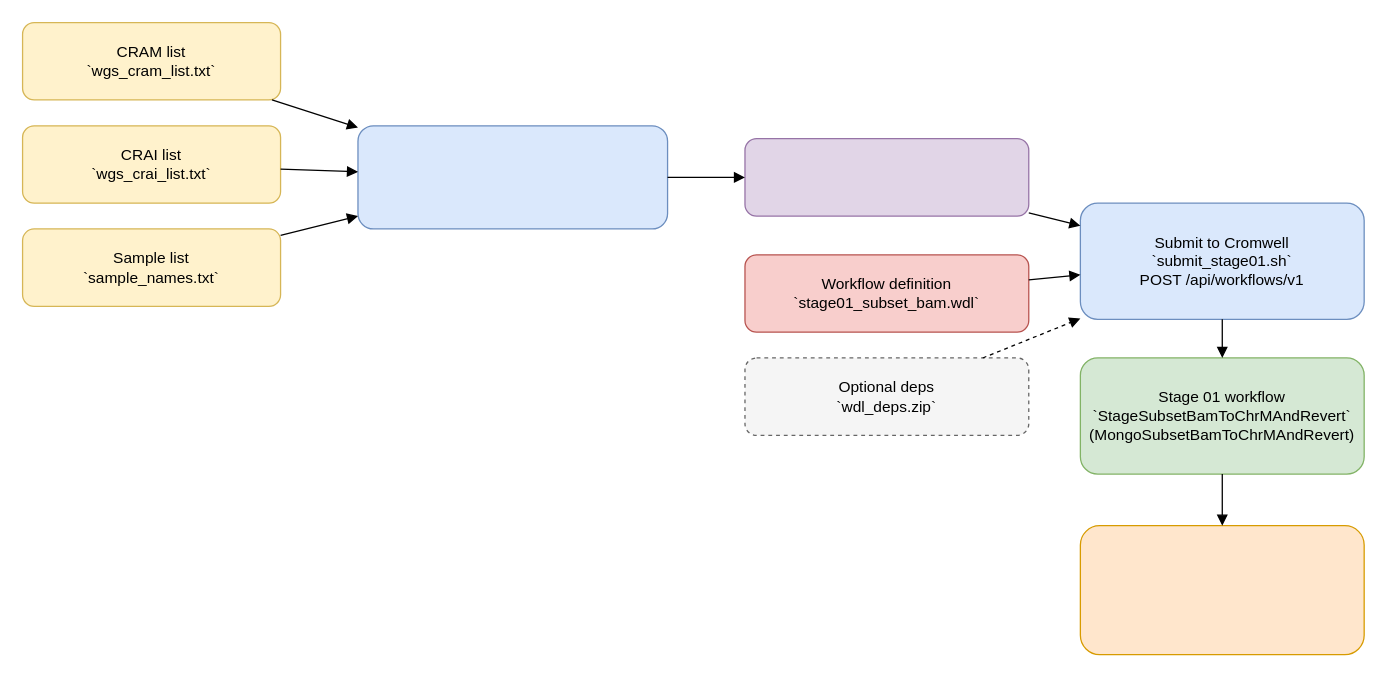
The diagram is 1387 pixels wide and 677 high, and some of its shapes have lost their labels. Each missing label, with the box of its shape:
Outputs `output_bam` `output_bai` `mean_coverage` (+ metrics): (1079, 524, 1364, 655)
Populate Stage01 JSON `populate_stage01_from_lists.sh`: (357, 124, 668, 229)
Stage01 inputs `stage01_subset_bam.json`: (744, 137, 1029, 216)
